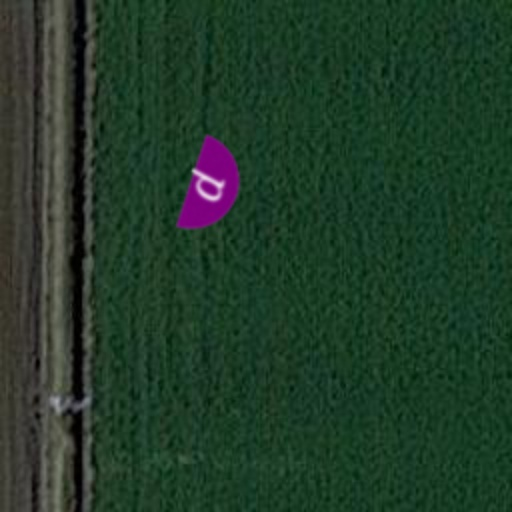semicircle: (152, 126, 276, 250)
